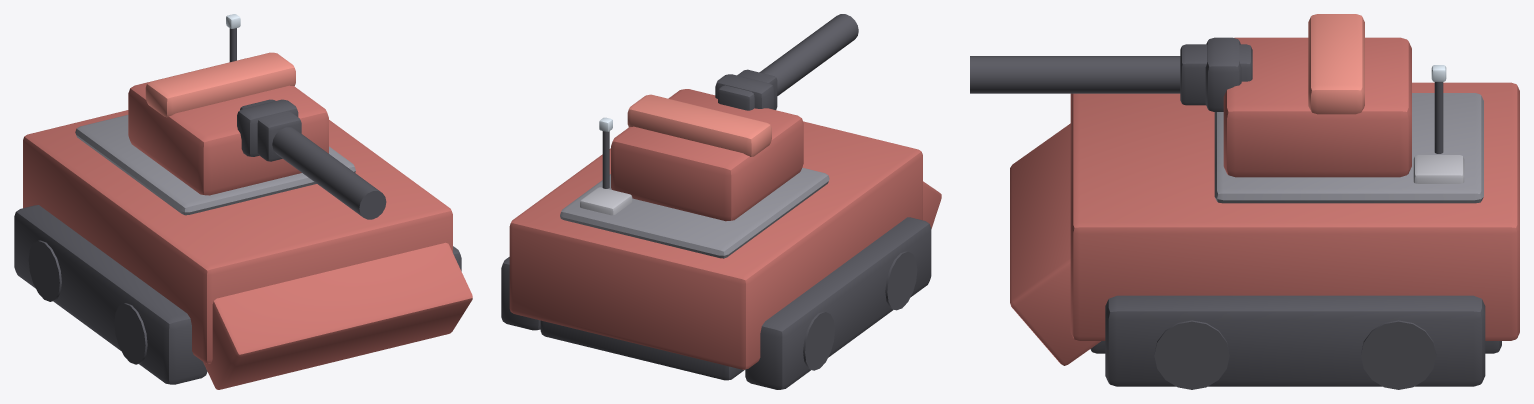
Rendered from red_mediumTank.glb.
3 views of the same model, side by side, from view 1: azimuth 30°, elevation 25°; view 2: azimuth 150°, elevation 25°; view 3: azimuth 270°, elevation 25° (orthographic). The views are drawn at different scales.
Parts seen in each view (by area): view 1: hull_static, turret; view 2: hull_static, turret; view 3: hull_static, turret.
Part boxes in pixels (x1,y1,x2,y2): hull_static: (14,14,472,389); turret: (128,52,386,219); hull_static: (501,117,941,389); turret: (611,14,858,221); hull_static: (1010,65,1519,389); turret: (970,14,1411,177).
Size of the model in its own units: 2.9 by 2.05 by 3.8.
